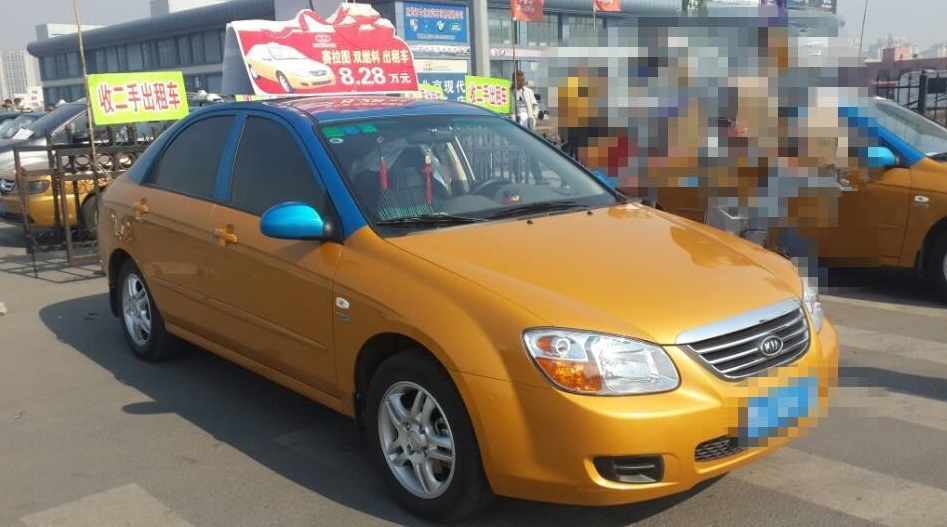taxi: (93, 92, 841, 525)
